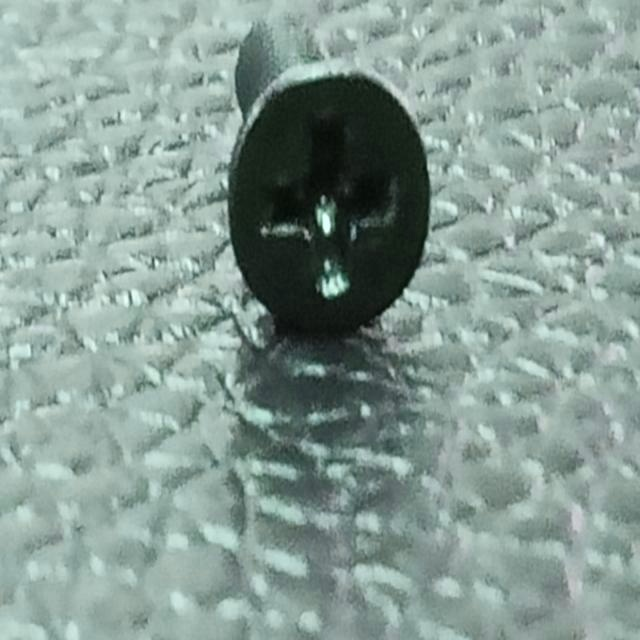phillips: (227, 58, 432, 342)
